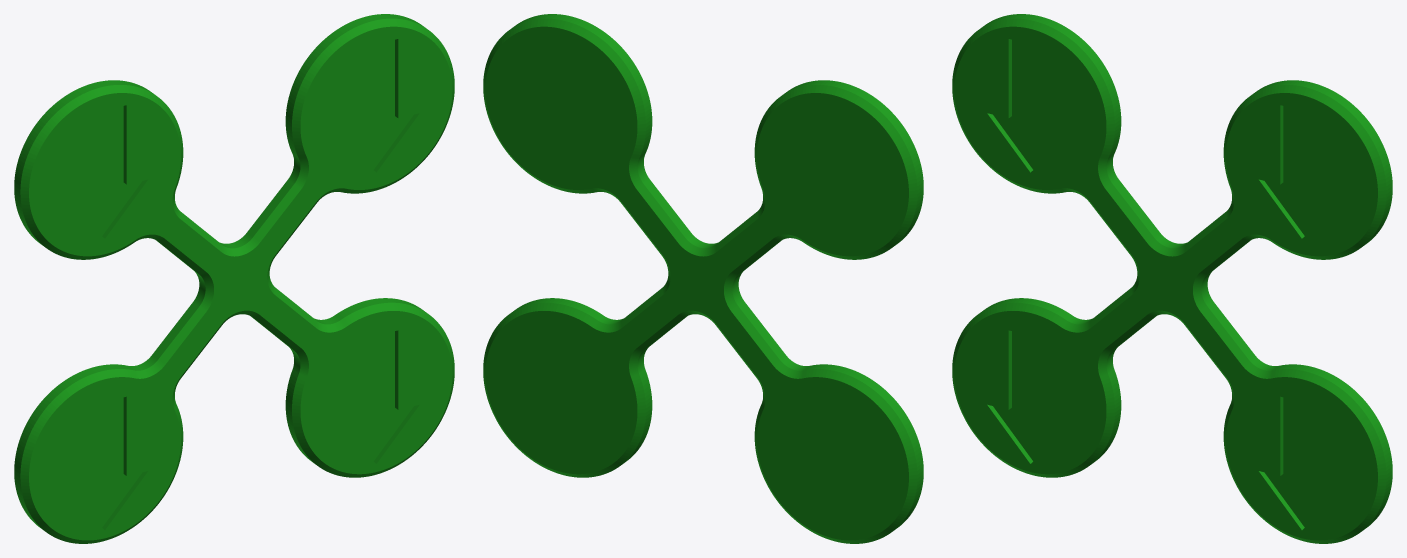
Rendered from drone.dae.
3 views of the same model, side by side, from view 1: azimuth 30°, elevation 25°; view 2: azimuth 150°, elevation 25°; view 3: azimuth 330°, elevation 25° (orthographic).
Visible parts, largest first — view 1: <STL_BINARY>; view 2: <STL_BINARY>; view 3: <STL_BINARY>.
Part boxes in pixels (box(x1,y1,x2,y2)): <STL_BINARY>: box(14, 14, 454, 543); <STL_BINARY>: box(483, 14, 923, 543); <STL_BINARY>: box(952, 14, 1392, 543).
Bounding box in the file's own units: 0.4 × 0.4 × 0.02.
